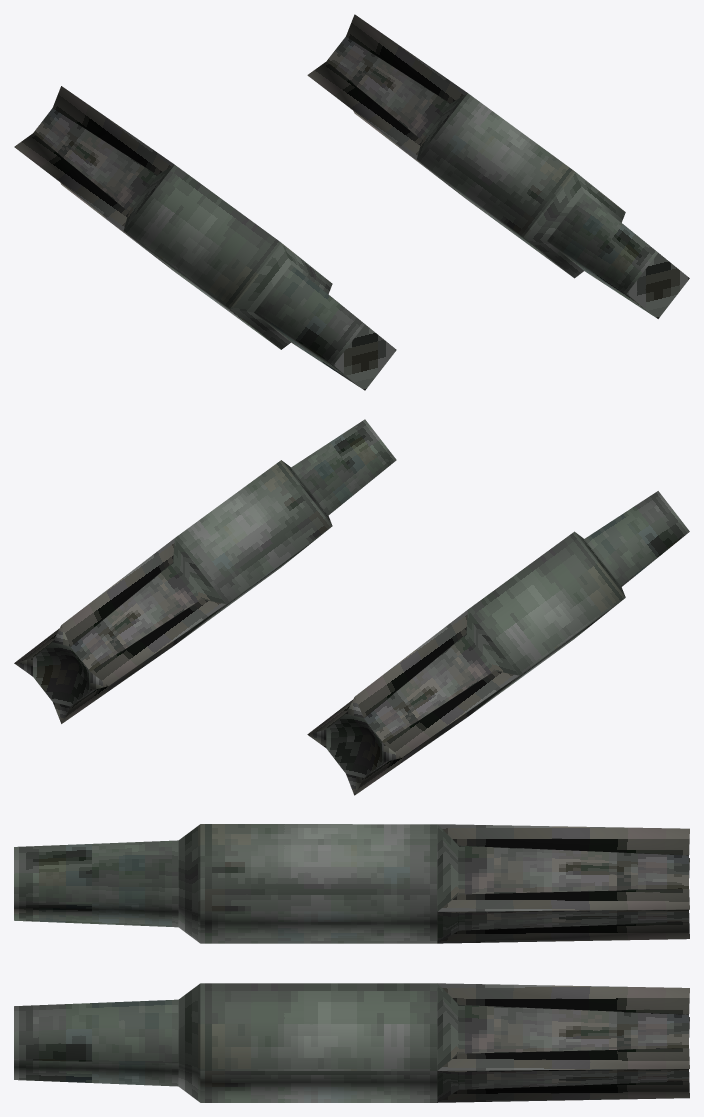
File: black_sun_fighter_heavy_engine_s02_l3.fbx
The picture shows the model from 3 angles, top to bottom: view 1: azimuth 30°, elevation 25°; view 2: azimuth 150°, elevation 25°; view 3: azimuth 270°, elevation 25°; orthographic projection. The views are drawn at different scales.
Parts seen in each view (by area): view 1: mesh_node; view 2: mesh_node; view 3: mesh_node.
Boxes of the visible parts, <box> form: mesh_node: <box>14,14,689,390</box>; mesh_node: <box>14,419,689,795</box>; mesh_node: <box>14,824,689,1102</box>.
Size of the model in its own units: 7.76 by 2.01 by 10.31.
1 material, 1 textured.
